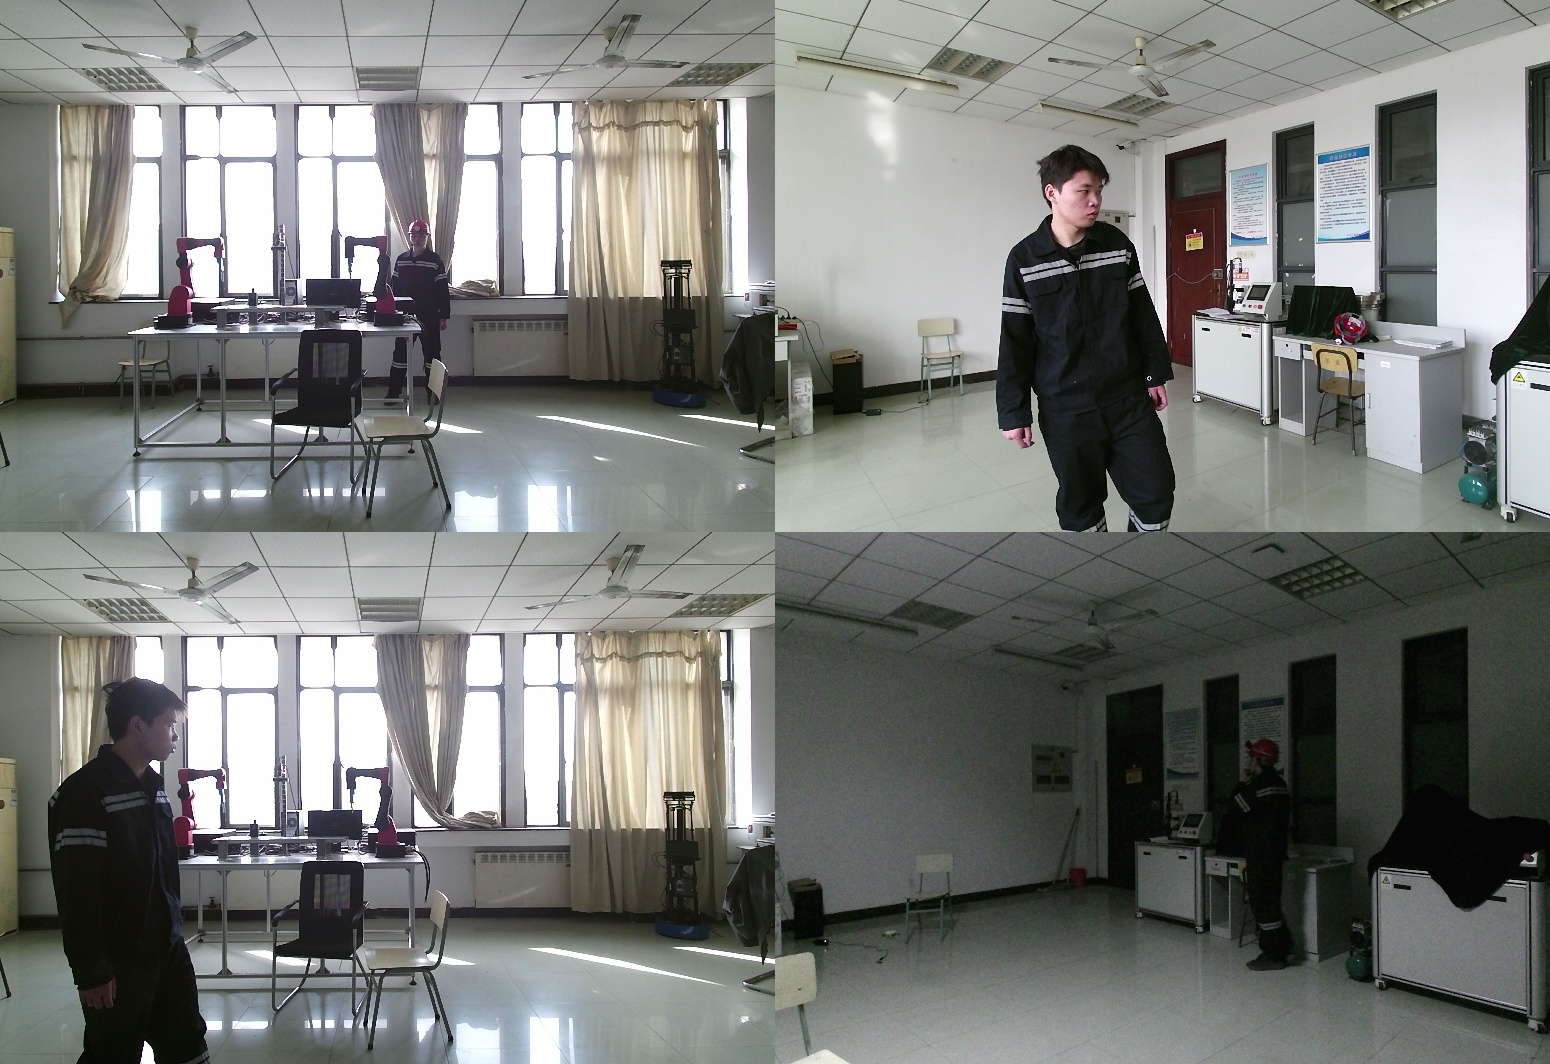person: (997, 143, 1189, 532), (51, 679, 218, 1064), (1224, 740, 1301, 972), (387, 220, 455, 420)
